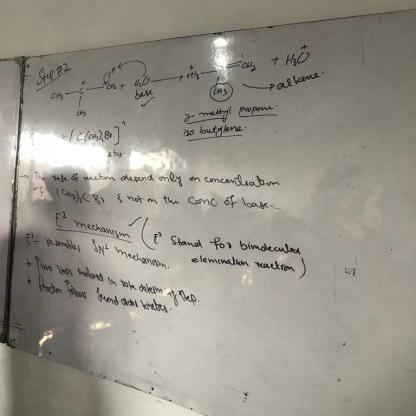Handwritten text: (27, 254, 206, 309), (32, 273, 185, 323), (31, 167, 290, 193), (125, 188, 276, 211), (171, 233, 313, 255), (185, 254, 302, 277), (106, 242, 172, 276), (66, 216, 139, 243), (198, 102, 280, 119), (40, 232, 84, 256), (179, 123, 249, 138), (271, 70, 322, 90), (32, 64, 55, 90), (132, 87, 160, 101), (29, 185, 56, 197)
Whiteboard: (1, 9, 416, 416)
